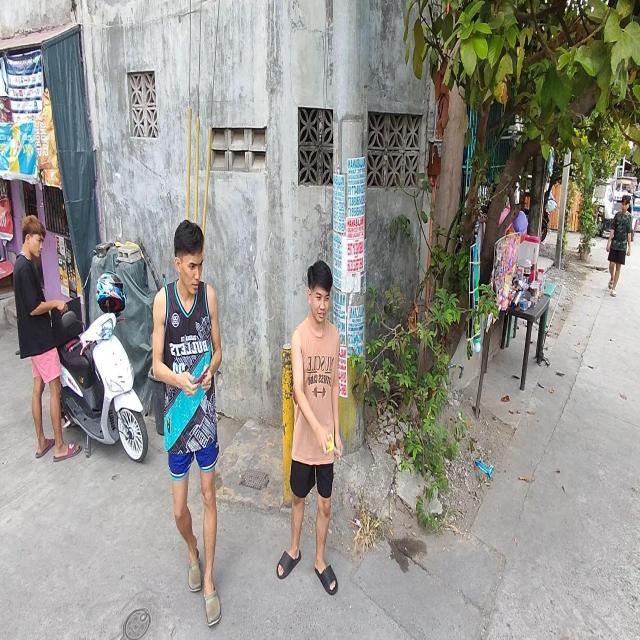scissor: (325, 434, 340, 458), (194, 365, 210, 384)
